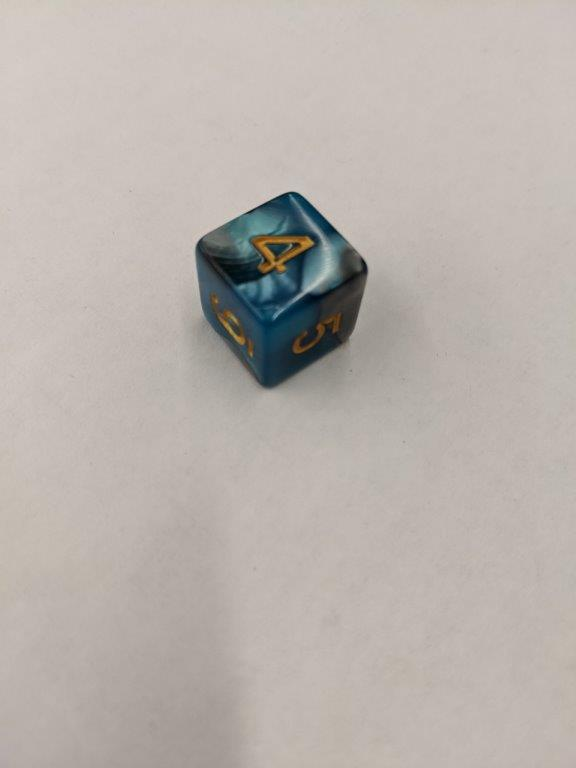d6-4: (198, 189, 369, 391)
